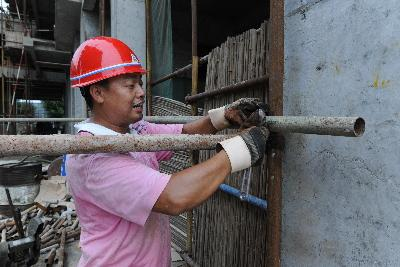helmet: (64, 30, 155, 134)
